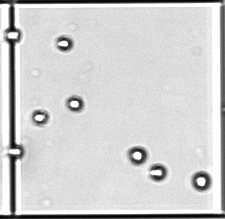Living Cell: (192, 170, 212, 191), (65, 94, 85, 113), (128, 145, 148, 164), (149, 163, 168, 182), (4, 26, 22, 45), (6, 142, 24, 159), (31, 108, 49, 125), (56, 35, 73, 53)
